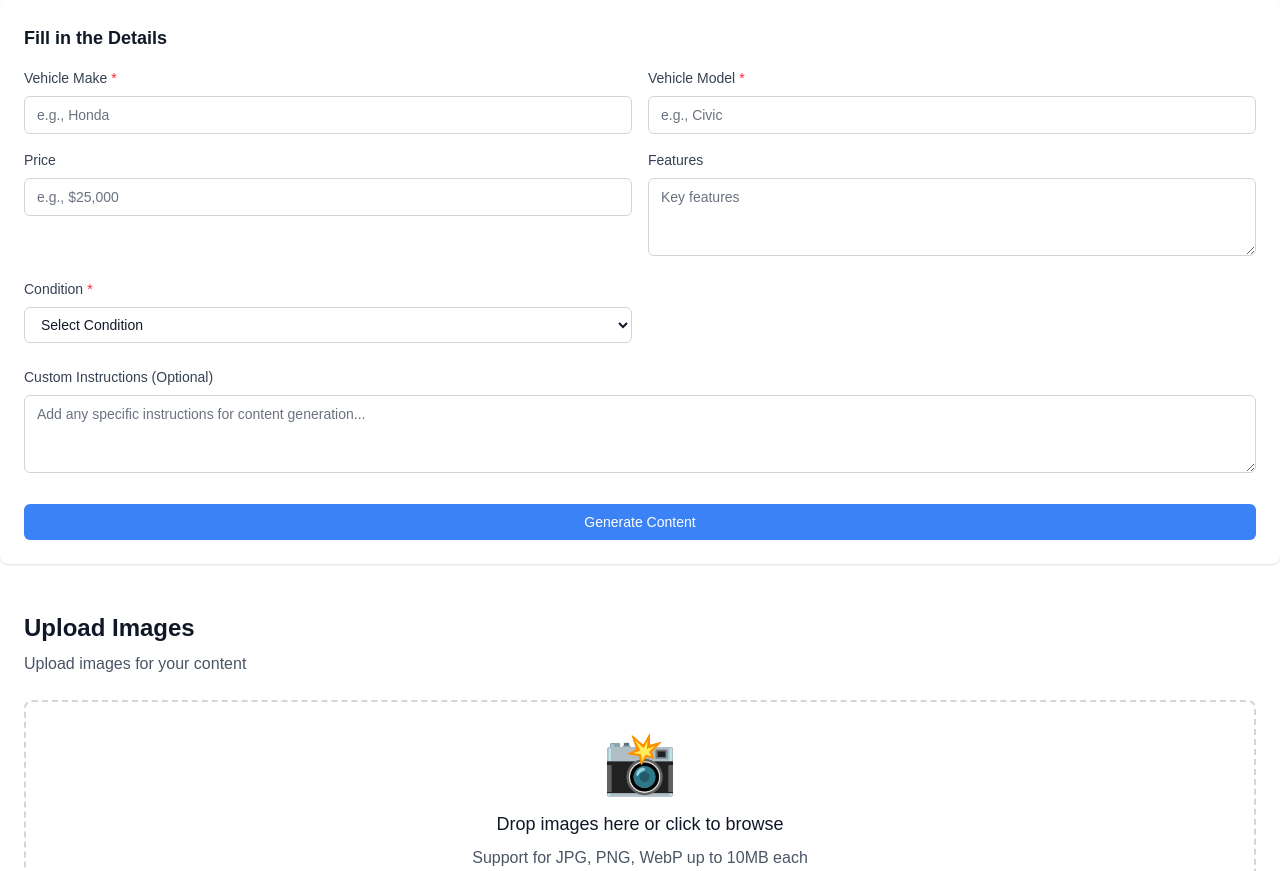
Test case: ContentGenerator › validates required fields
Click the button "Generate Content" at (640, 522), box [24, 504, 1256, 540]
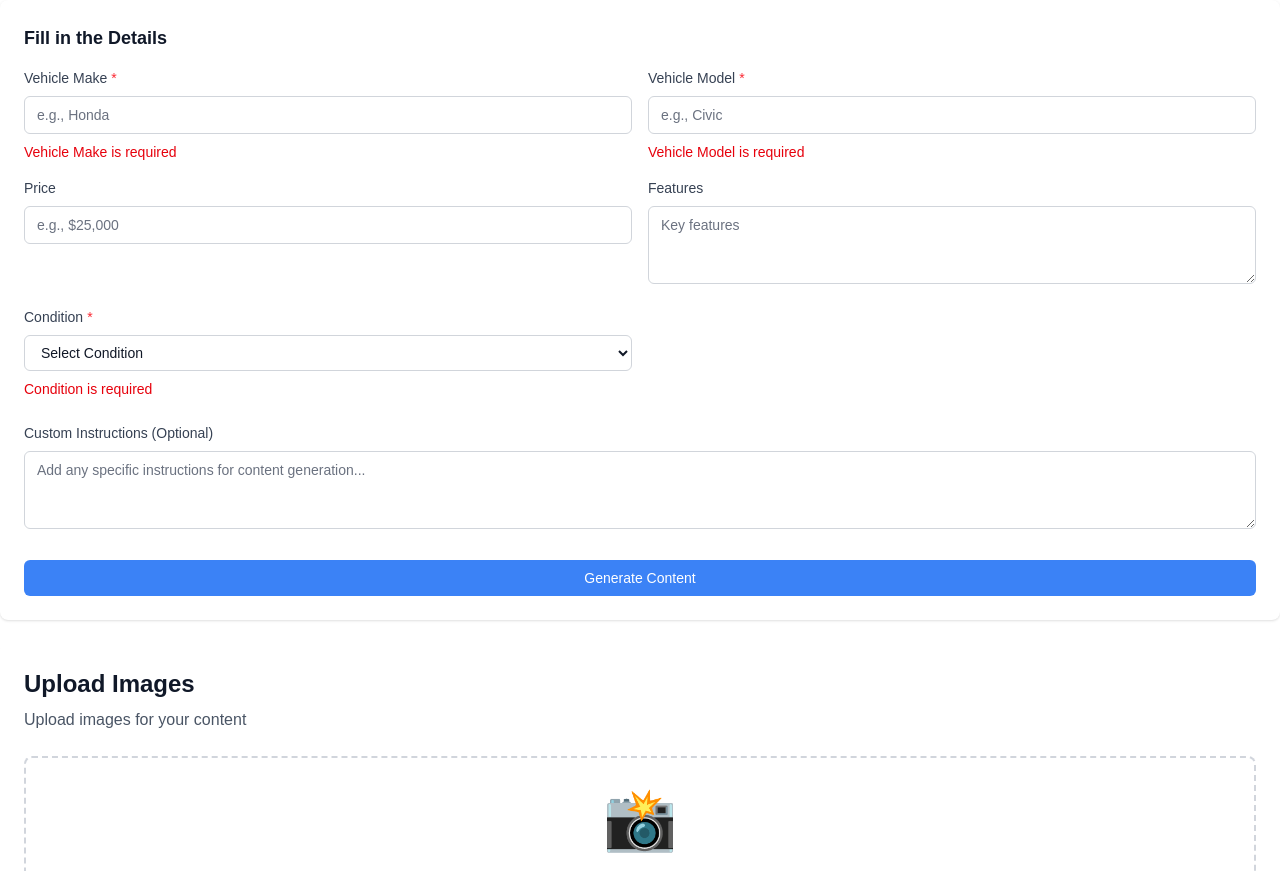
Check: the text "Vehicle Make is required" is shown, box [24, 144, 176, 160]
Check: the text "Vehicle Model is required" is shown, box [648, 144, 804, 160]
Check: the text "Condition is required" is shown, box [24, 381, 152, 397]
